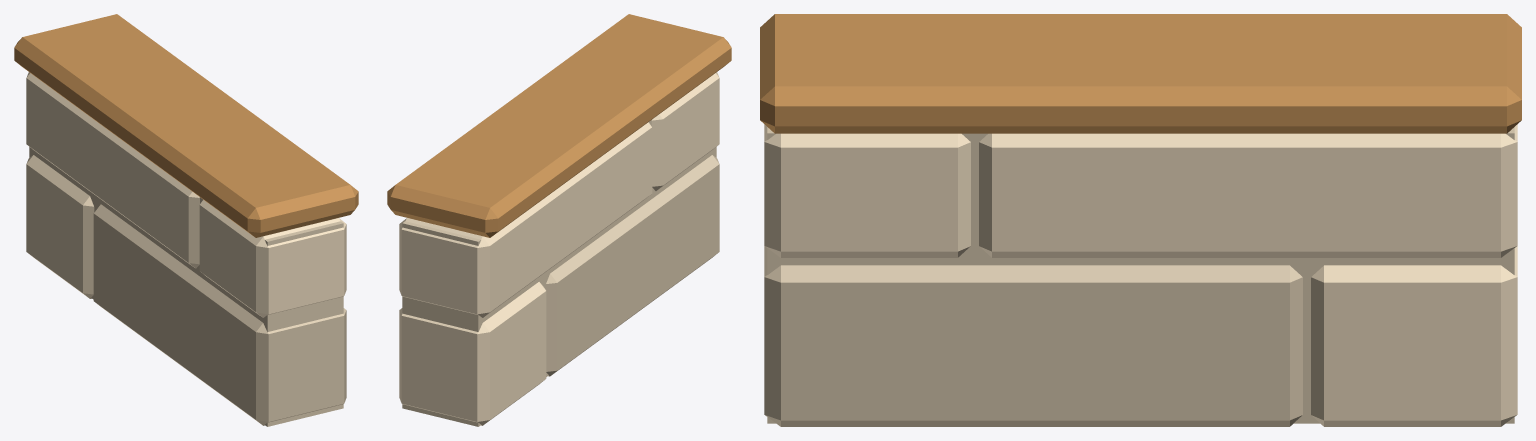
The model's file is mod_wall_curved_r2.52_n16_lip.glb.
The picture shows the model from 3 angles, left to right: view 1: azimuth 30°, elevation 25°; view 2: azimuth 150°, elevation 25°; view 3: azimuth 270°, elevation 25°; orthographic projection. The views are drawn at different scales.
Visible parts, largest first — view 1: mod_wall_curved_r2.52_n16_lip; view 2: mod_wall_curved_r2.52_n16_lip; view 3: mod_wall_curved_r2.52_n16_lip.
Boxes of the visible parts, bbox=[...] form: mod_wall_curved_r2.52_n16_lip: bbox=[14, 14, 358, 426]; mod_wall_curved_r2.52_n16_lip: bbox=[387, 14, 731, 426]; mod_wall_curved_r2.52_n16_lip: bbox=[760, 14, 1521, 426].
Size of the model in its own units: 0.27 by 0.515 by 1.02.
